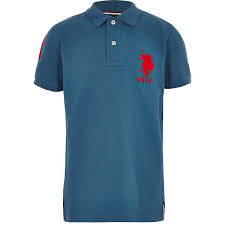C_polo shirt: (29, 3, 203, 221)
